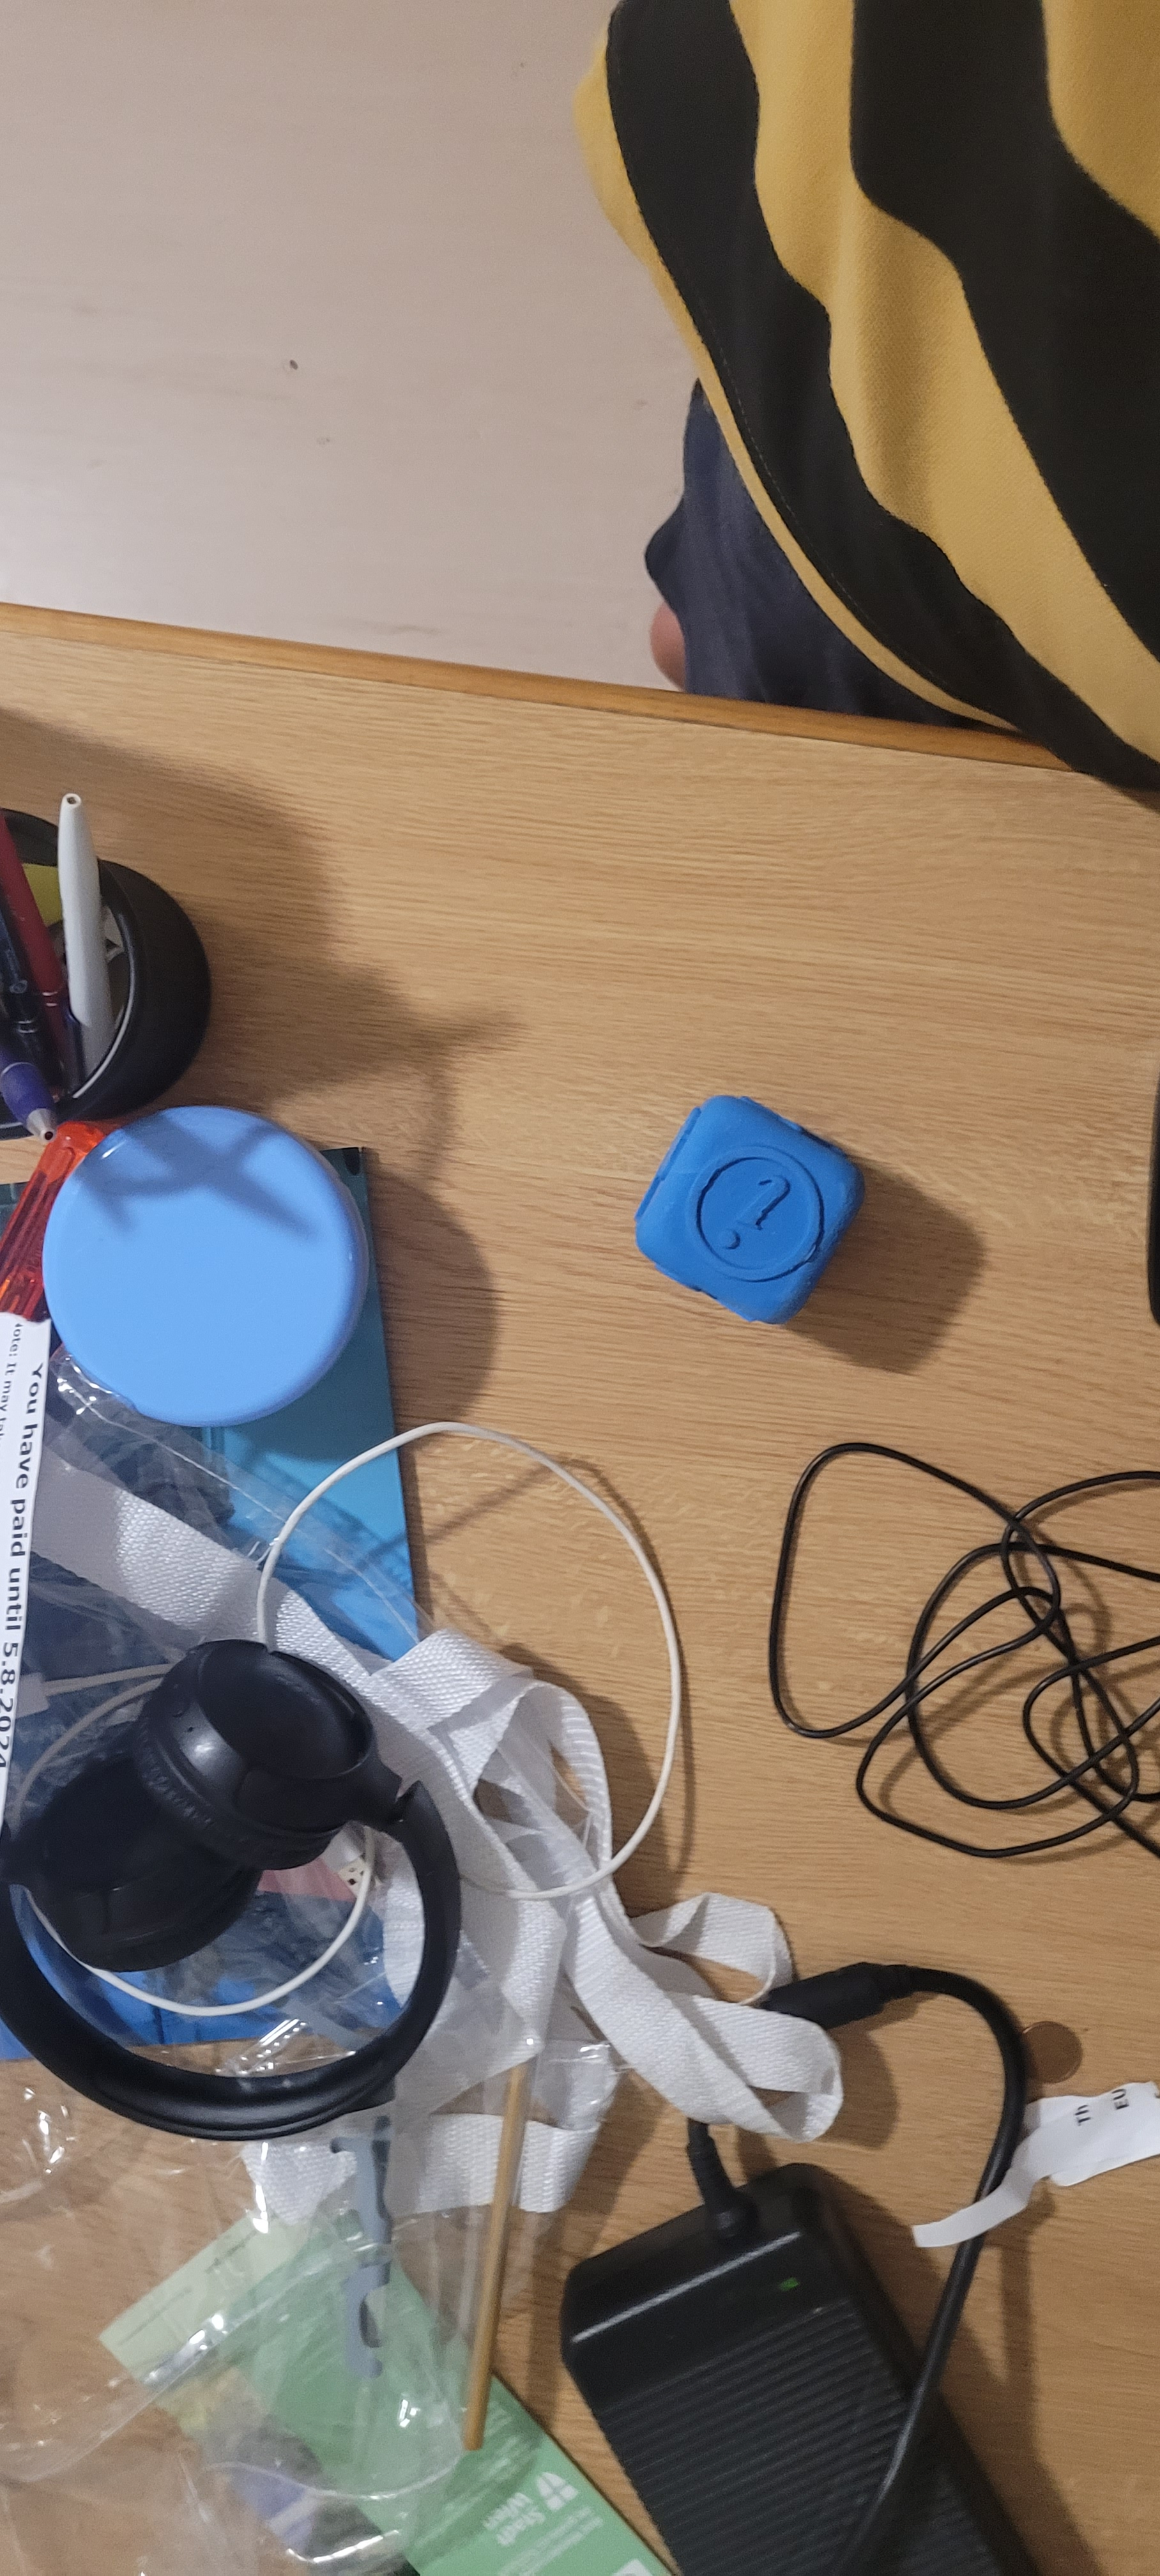Info: (662, 1102, 851, 1321)
